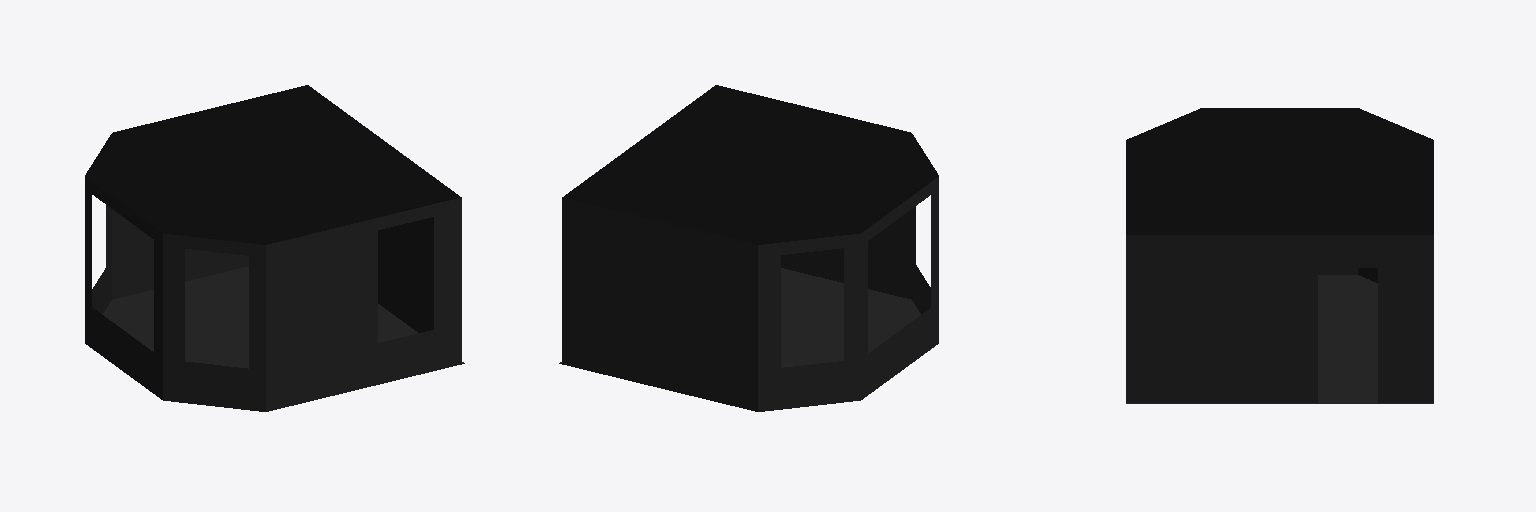
The model's file is RoomCabinet.obj.
3 views of the same model, side by side, from view 1: azimuth 30°, elevation 25°; view 2: azimuth 150°, elevation 25°; view 3: azimuth 270°, elevation 25° (orthographic).
Visible parts, largest first — view 1: Body; view 2: Body; view 3: Body.
Part boxes in pixels (left/top/right/bottom): Body: left=85, top=85, right=464, bottom=411; Body: left=559, top=85, right=938, bottom=411; Body: left=1126, top=108, right=1433, bottom=403.
Bounding box in the file's own units: 2.62 × 1.58 × 2.64.